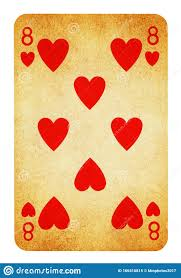eight of hearts: (13, 13, 169, 251)
